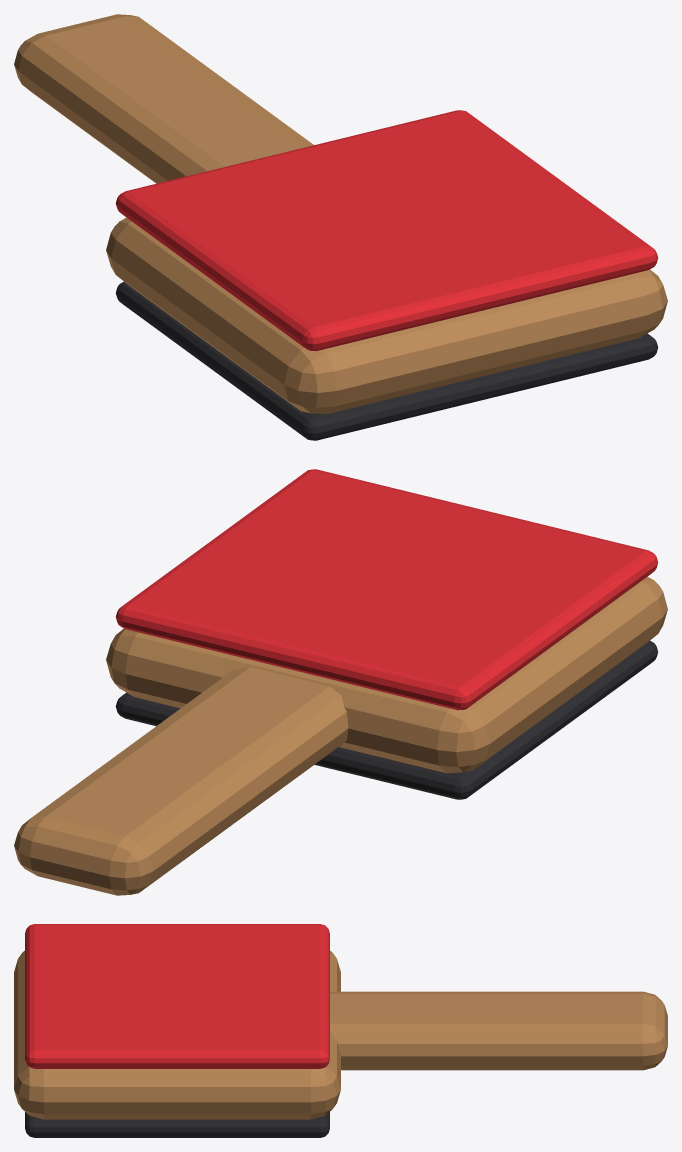
Rendered from equipamiento_paleta.fbx.
3 renders of one model, top to bottom at view 1: azimuth 30°, elevation 25°; view 2: azimuth 150°, elevation 25°; view 3: azimuth 270°, elevation 25°, orthographic. The views are drawn at different scales.
Parts seen in each view (by area): view 1: Paleta_Goma_Roja, Paleta_Nucleo, Paleta_Mango, Paleta_Goma_Negra; view 2: Paleta_Goma_Roja, Paleta_Mango, Paleta_Nucleo, Paleta_Goma_Negra; view 3: Paleta_Goma_Roja, Paleta_Mango, Paleta_Nucleo, Paleta_Goma_Negra.
Part boxes in pixels (left/top/right/bottom): Paleta_Goma_Roja: left=115, top=110, right=658, bottom=351; Paleta_Nucleo: left=106, top=217, right=667, bottom=414; Paleta_Mango: left=14, top=14, right=313, bottom=183; Paleta_Goma_Negra: left=116, top=281, right=658, bottom=440; Paleta_Goma_Roja: left=116, top=469, right=658, bottom=710; Paleta_Mango: left=14, top=667, right=348, bottom=895; Paleta_Nucleo: left=106, top=576, right=667, bottom=773; Paleta_Goma_Negra: left=115, top=641, right=658, bottom=799; Paleta_Goma_Roja: left=25, top=924, right=329, bottom=1068; Paleta_Mango: left=330, top=991, right=667, bottom=1070; Paleta_Nucleo: left=14, top=951, right=340, bottom=1119; Paleta_Goma_Negra: left=25, top=1112, right=329, bottom=1137.
Size of the model in its own units: 31 by 8.8 by 60.
